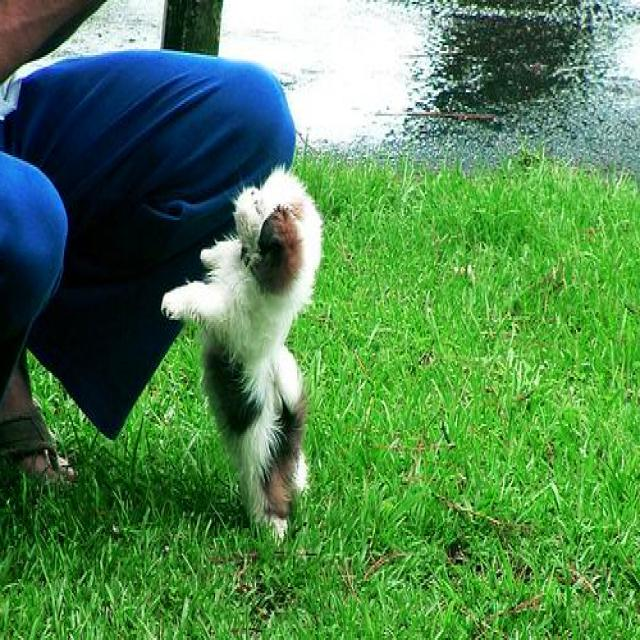shih_tzu: (162, 169, 324, 548)
